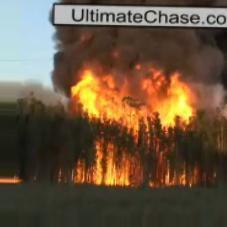fire: (70, 64, 198, 190), (0, 172, 32, 186)
